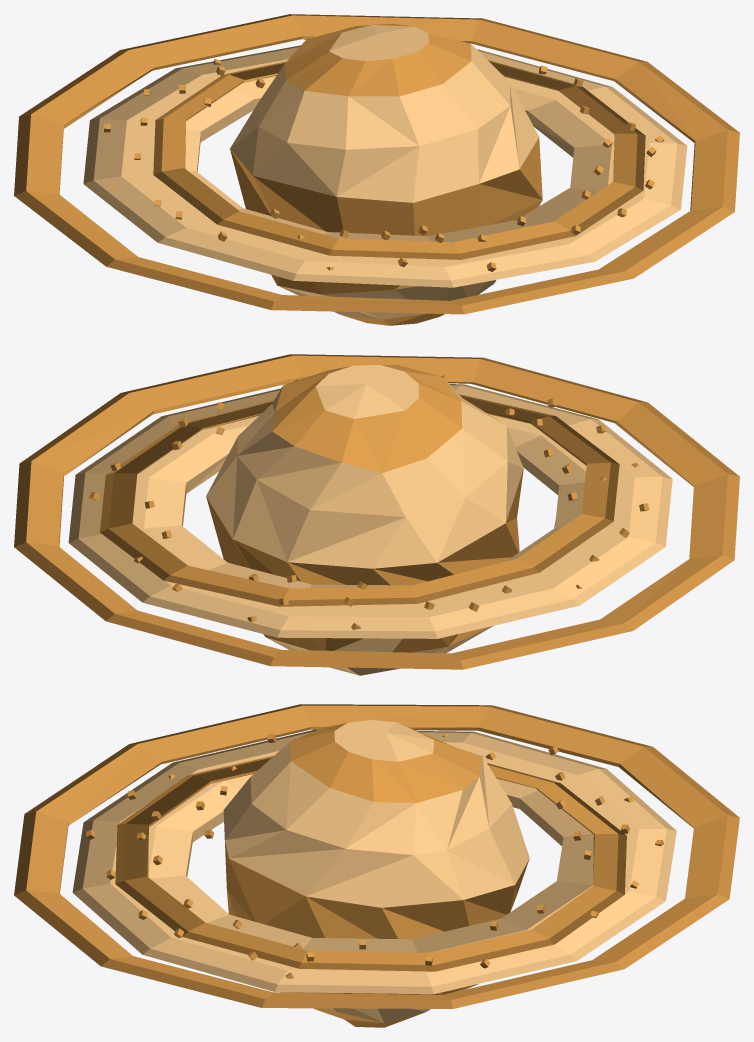
File: Saturn.glb
3 views of the same model, one above another, from view 1: azimuth 30°, elevation 25°; view 2: azimuth 150°, elevation 25°; view 3: azimuth 270°, elevation 25° (orthographic). The views are drawn at different scales.
Visible parts, largest first — view 1: Node; view 2: Node; view 3: Node.
Boxes of the visible parts, left/top/right/bottom form: Node: left=14, top=14, right=739, bottom=325; Node: left=14, top=354, right=739, bottom=675; Node: left=14, top=704, right=739, bottom=1027.
Bounding box in the file's own units: 1.88 × 0.8029 × 1.9.
